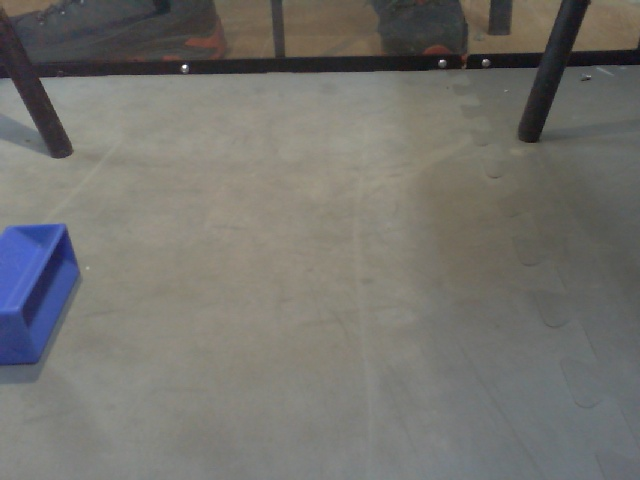BlueSample: (1, 219, 84, 367)
